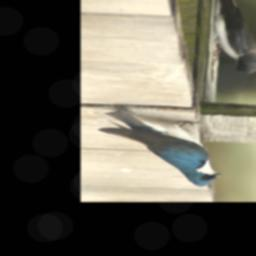Swallow: (98, 108, 221, 187)
